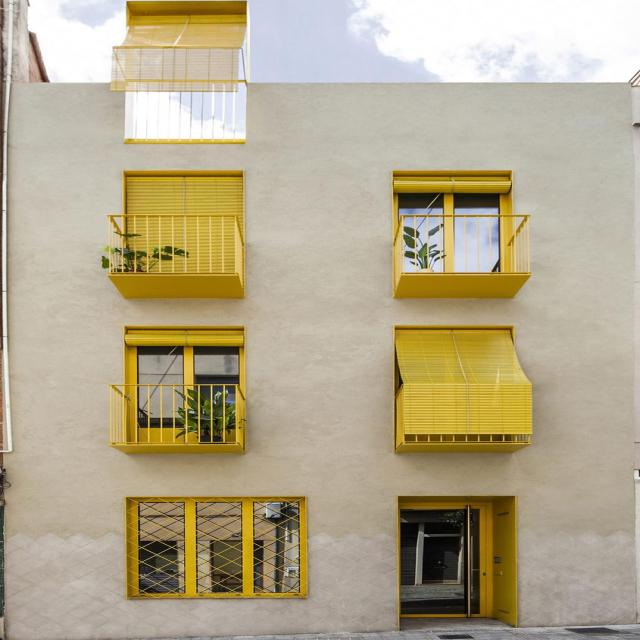Railing: (108, 384, 246, 444), (108, 215, 242, 272), (126, 93, 242, 142)
door: (395, 506, 493, 618)
wall: (0, 1, 632, 640)
windows: (131, 502, 299, 594), (396, 189, 498, 274), (132, 347, 240, 384)
